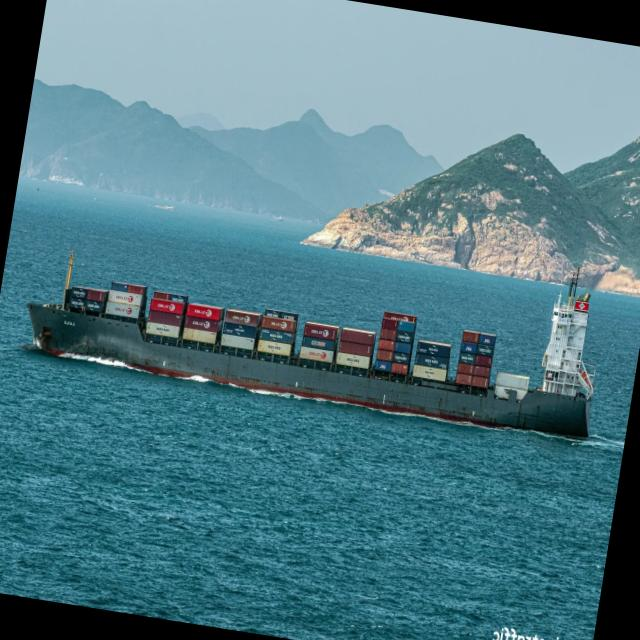Cargo: (28, 250, 594, 437)
